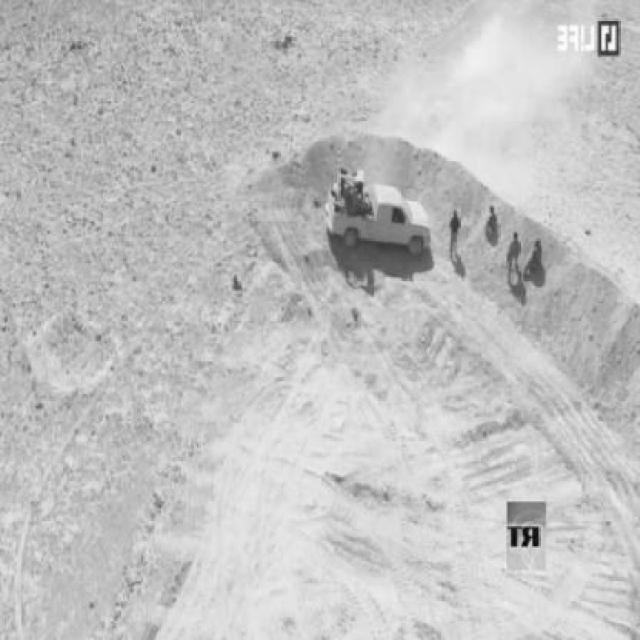Person: (507, 226, 527, 285), (526, 233, 547, 280), (452, 205, 465, 263), (486, 201, 504, 241)
Vehicle: (324, 177, 435, 251)
